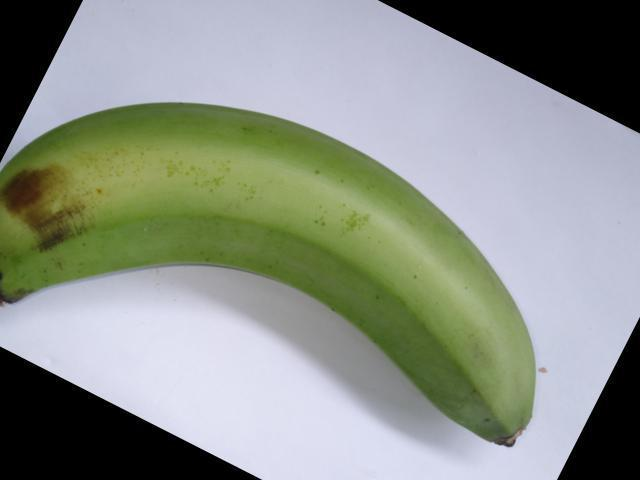freshunripe: (0, 70, 550, 458)
